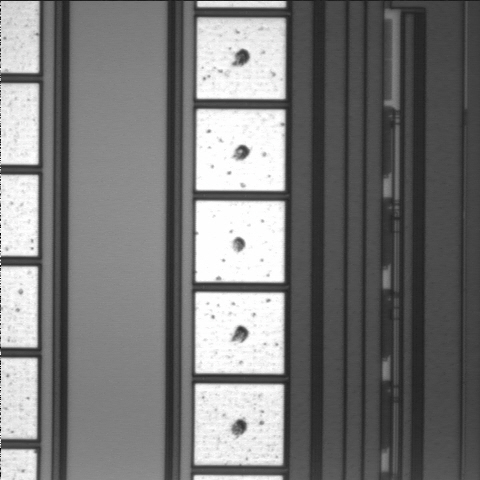pad: (196, 109, 285, 191), (195, 292, 284, 374), (195, 201, 285, 282), (194, 384, 284, 465), (197, 18, 285, 99)
